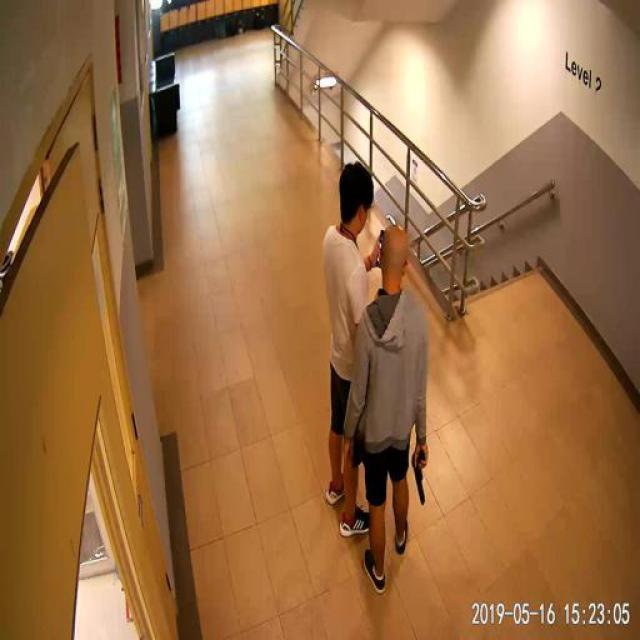weapon: (410, 448, 427, 506)
